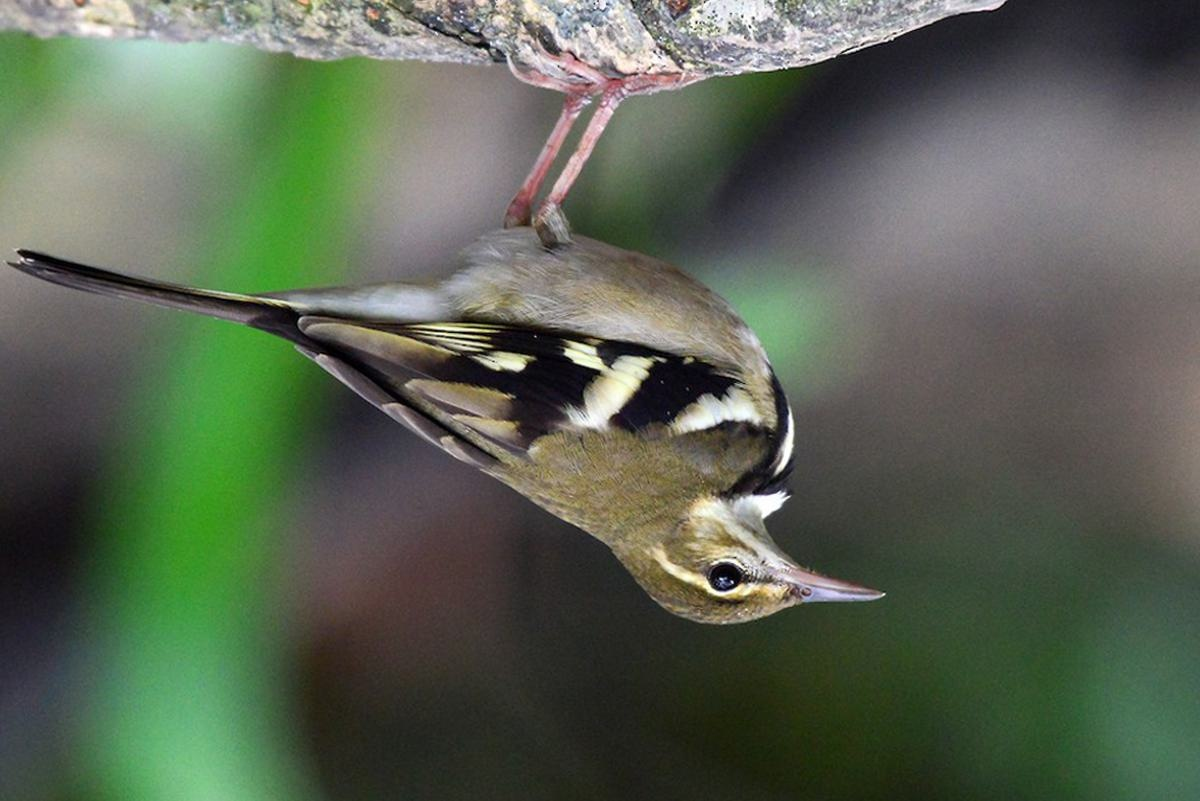wagtail: (131, 96, 893, 650)
